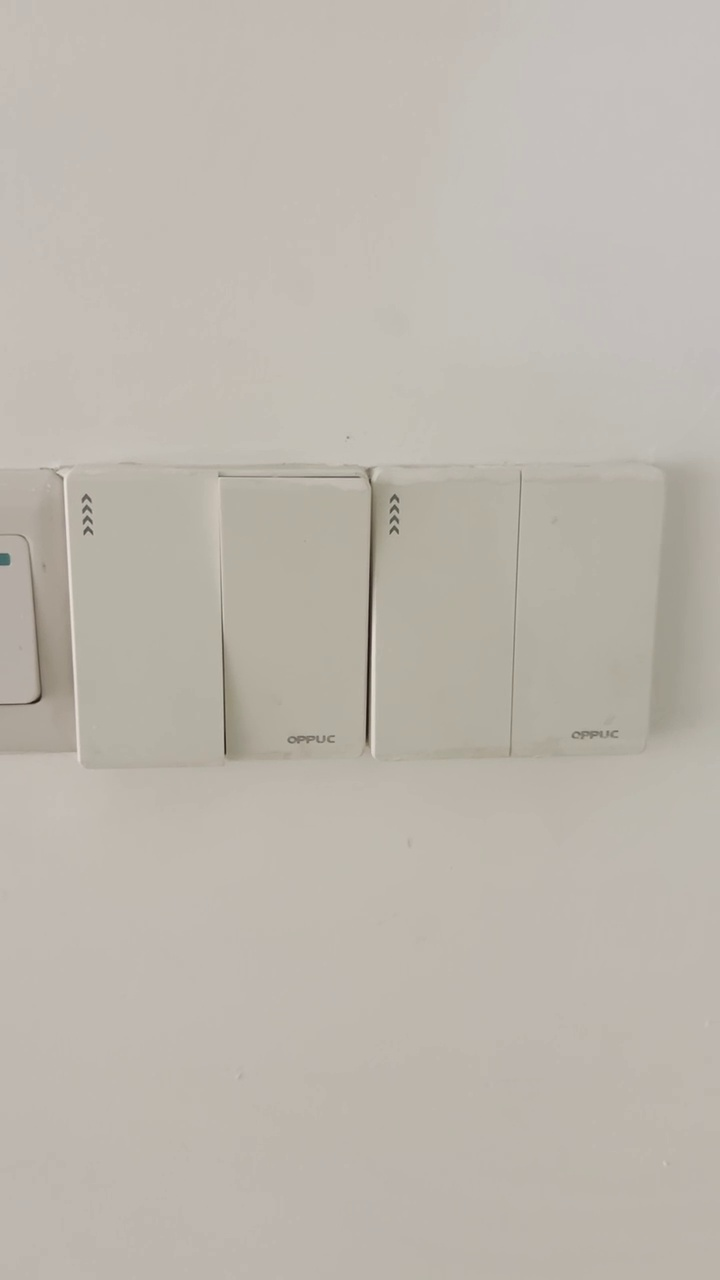button1: (70, 470, 220, 767), (374, 476, 516, 752), (227, 480, 367, 756), (518, 480, 652, 756)
